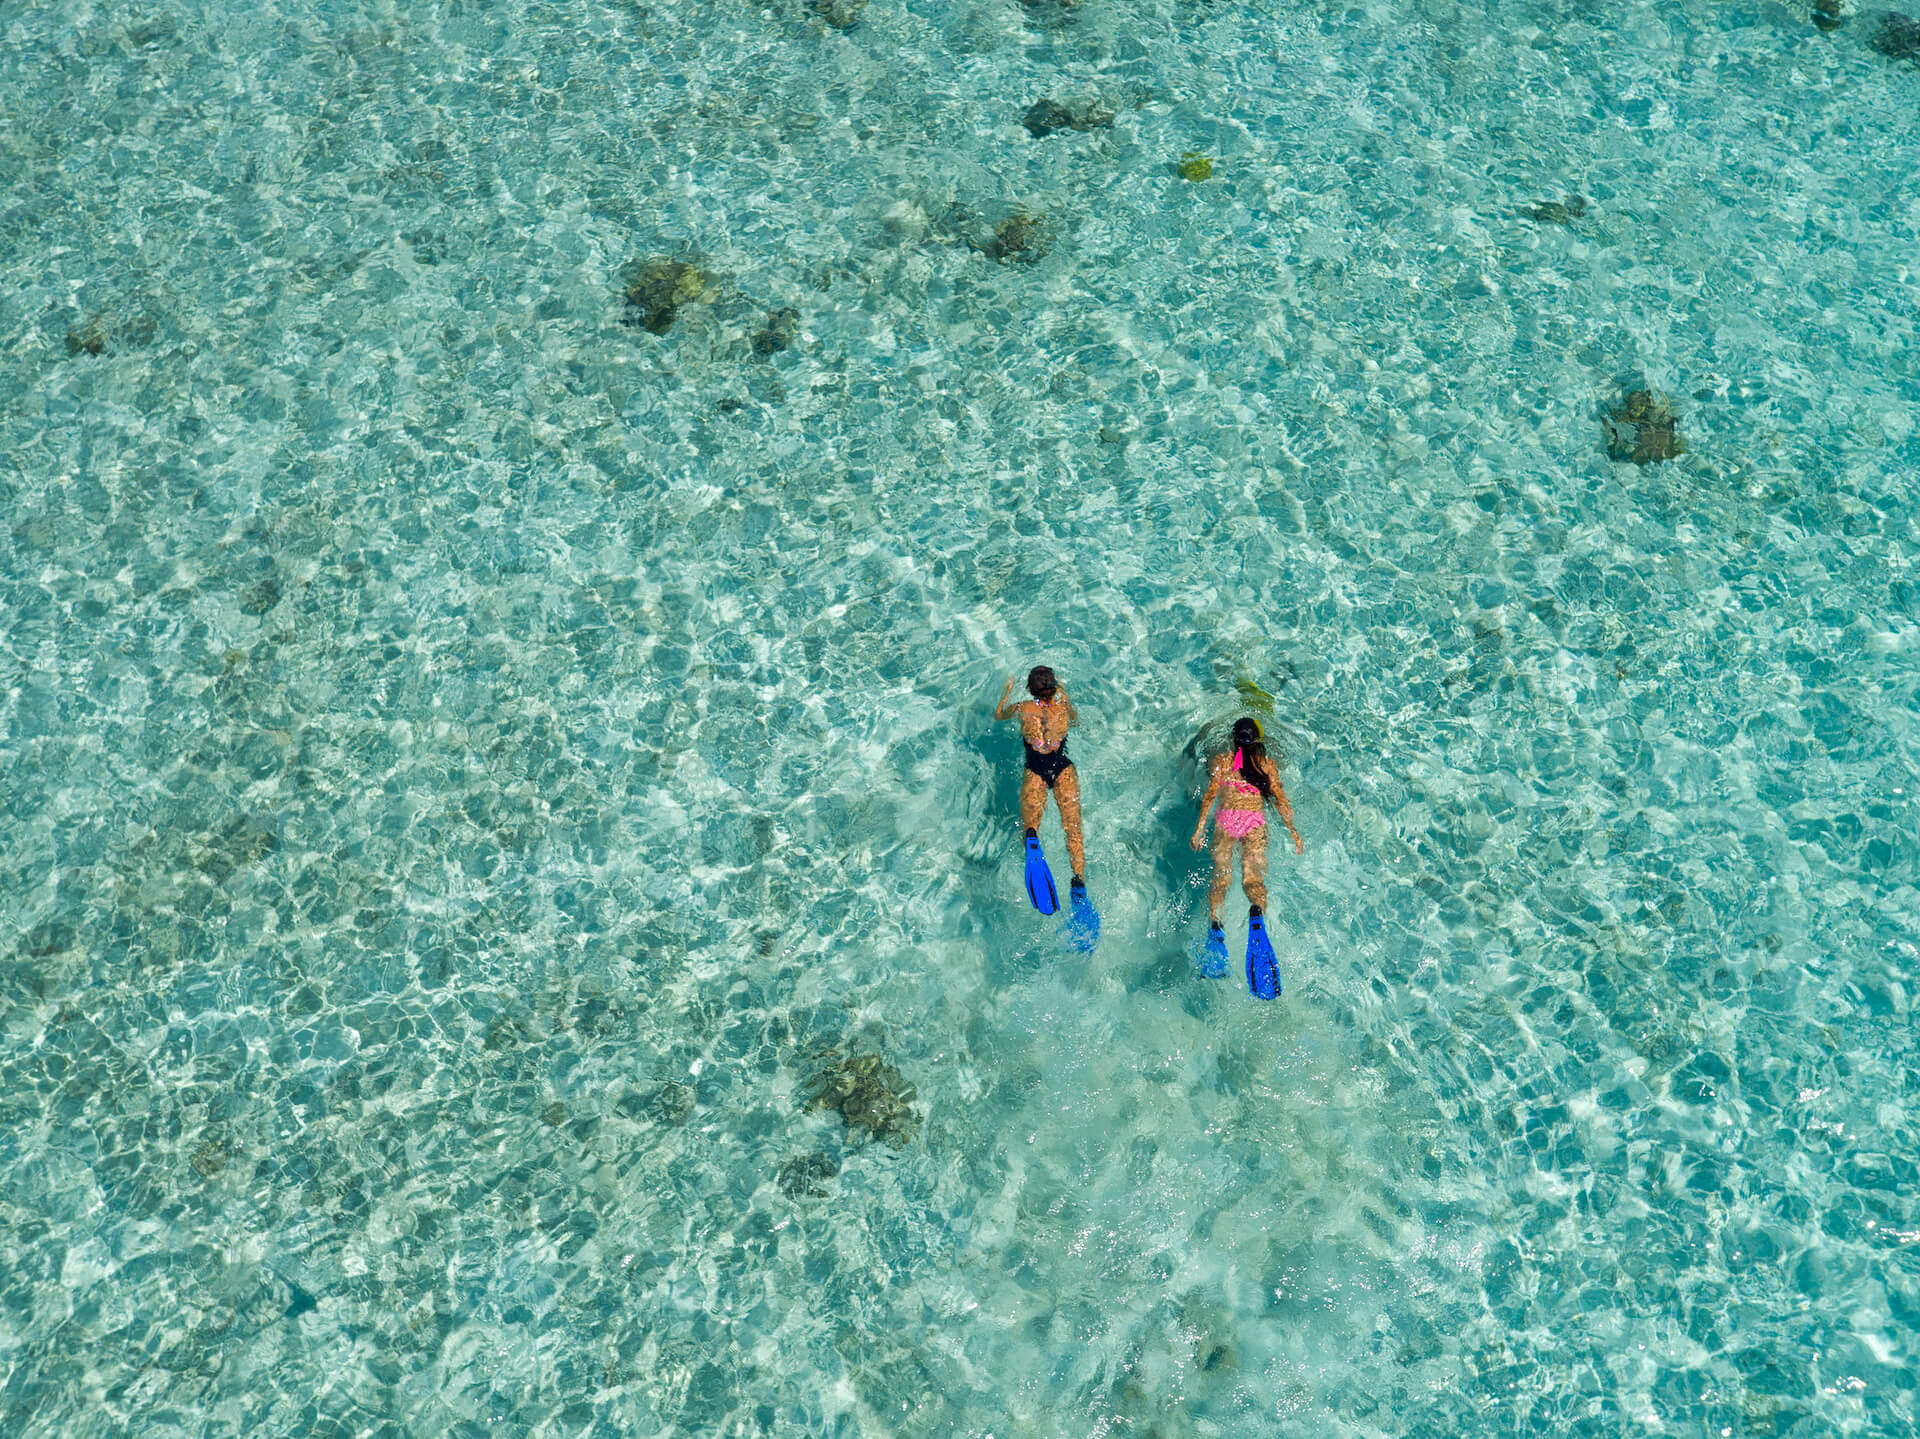people: (1187, 710, 1308, 998), (991, 662, 1100, 953)
